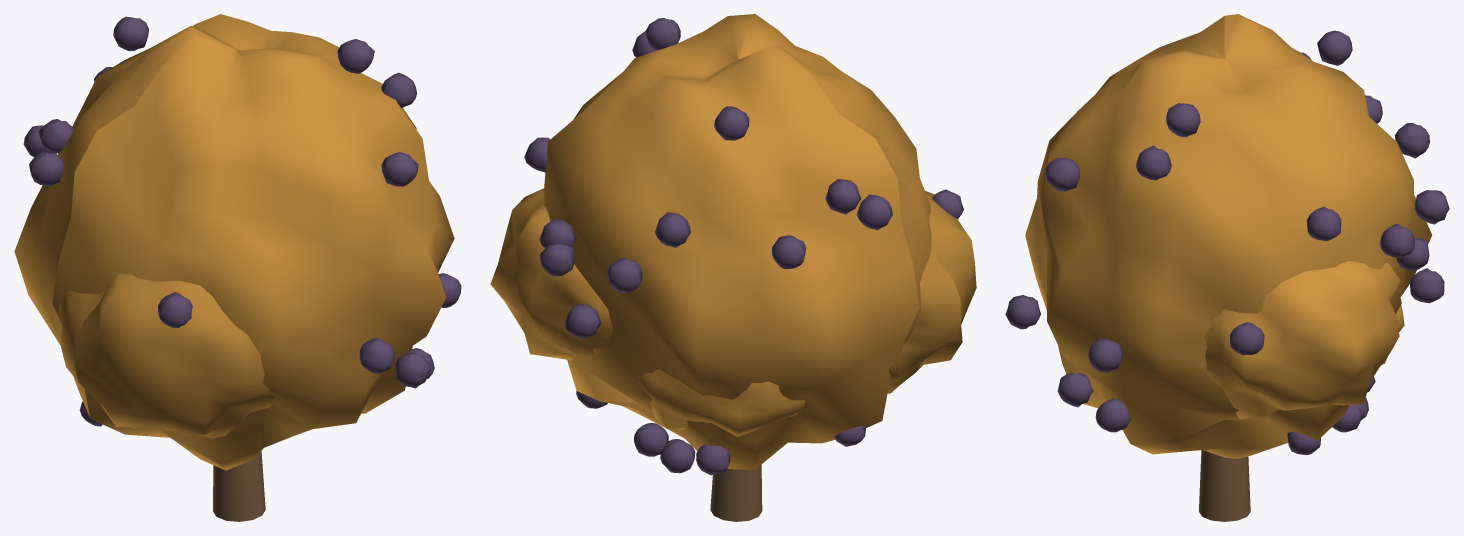
File: szilva-osz.glb
3 views of the same model, side by side, from view 1: azimuth 30°, elevation 25°; view 2: azimuth 150°, elevation 25°; view 3: azimuth 270°, elevation 25° (orthographic). The views are drawn at different scales.
Parts seen in each view (by area): view 1: korona-1, korona-2, torzs, termes-22, termes-20, termes-10, termes-21, termes-7, termes-5, termes-3, termes-23, termes-15 (+1 smaller); view 2: korona-1, korona-3, korona-2, korona-5, torzs, termes-25, termes-26, termes-18, termes-3, termes-15, termes-21, termes-6 (+8 smaller); view 3: korona-1, korona-3, torzs, termes-26, termes-7, termes-11, termes-21, termes-22, termes-25, termes-12, termes-23, termes-10 (+8 smaller).
Part boxes in pixels (x1,y1,x2,y2): korona-1: (14, 14, 454, 470); korona-2: (59, 273, 275, 438); torzs: (213, 451, 265, 521); termes-22: (381, 152, 418, 186); termes-20: (359, 337, 394, 373); termes-10: (395, 352, 431, 388); termes-21: (113, 16, 148, 50); termes-7: (337, 39, 374, 73); termes-5: (158, 292, 192, 328); termes-3: (29, 152, 63, 186); termes-23: (381, 72, 416, 108); termes-15: (38, 119, 74, 153); korona-1: (544, 14, 931, 470); korona-3: (490, 188, 612, 360); korona-2: (887, 191, 976, 393); korona-5: (638, 369, 804, 436); torzs: (710, 464, 762, 521); termes-25: (607, 257, 642, 293); termes-26: (564, 304, 601, 339); termes-18: (654, 212, 690, 247); termes-3: (856, 194, 892, 230); termes-15: (825, 179, 861, 214); termes-21: (714, 106, 749, 140); termes-6: (660, 439, 695, 473); korona-1: (1025, 14, 1431, 458); korona-3: (1204, 261, 1401, 418); torzs: (1199, 450, 1250, 521); termes-26: (1409, 268, 1444, 303); termes-7: (1166, 103, 1200, 137); termes-11: (1306, 206, 1341, 241); termes-21: (1317, 30, 1352, 65); termes-22: (1046, 157, 1080, 191); termes-25: (1414, 190, 1449, 224); termes-12: (1088, 338, 1122, 372); termes-23: (1136, 145, 1171, 180); termes-10: (1057, 372, 1093, 407).
Size of the model in its own units: 5.64 by 6.62 by 5.57.
